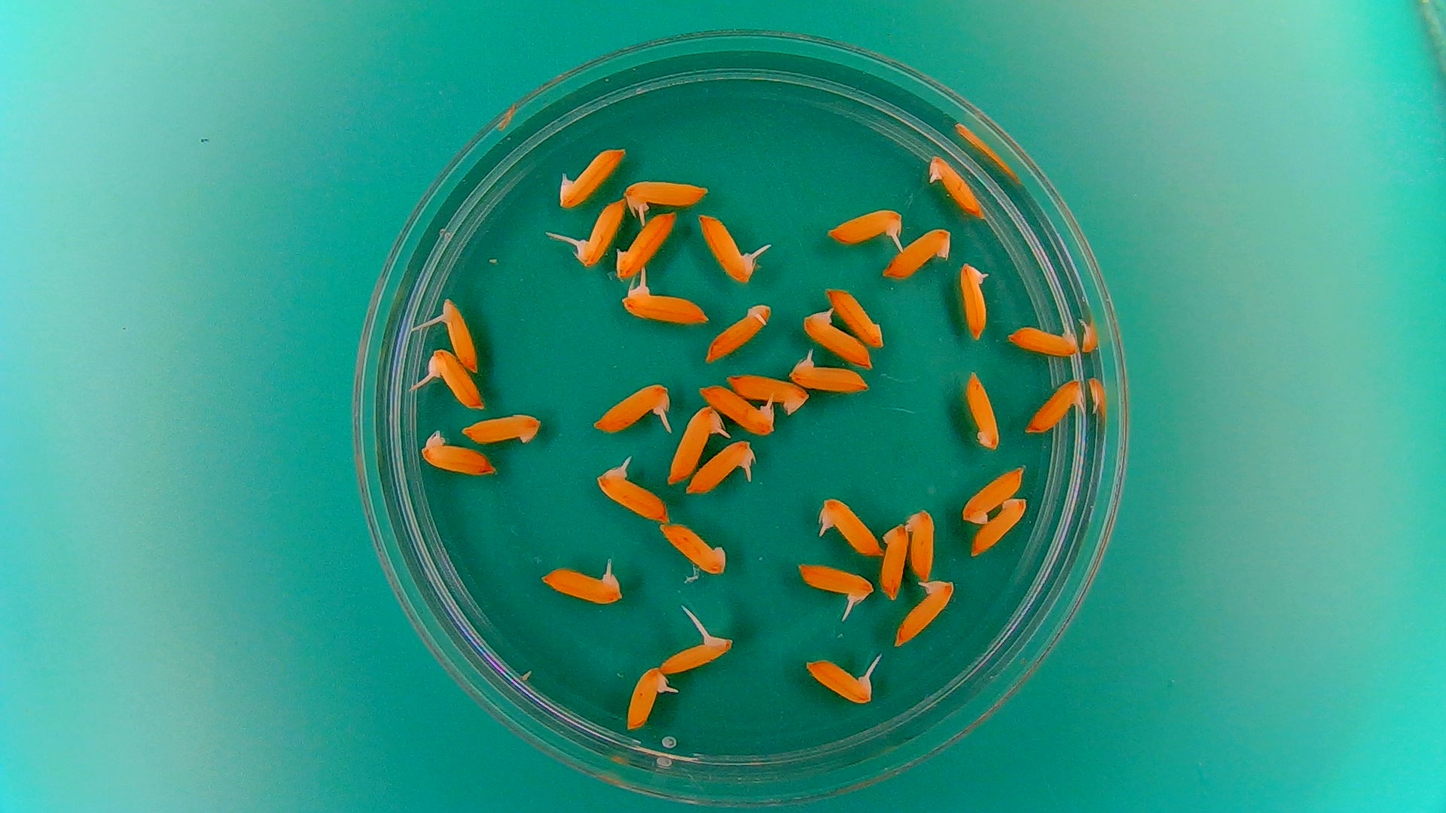no: (657, 518, 731, 577), (615, 210, 678, 279), (879, 224, 955, 281), (960, 463, 1028, 526), (825, 287, 886, 350), (970, 495, 1030, 557), (725, 370, 811, 413), (964, 368, 1002, 452), (461, 410, 547, 446), (424, 440, 495, 478), (879, 522, 911, 601), (907, 504, 936, 584)
yes: (586, 379, 676, 437), (892, 576, 958, 649), (799, 307, 876, 369), (705, 298, 776, 364), (668, 404, 725, 486), (685, 440, 761, 500), (815, 493, 885, 558), (418, 346, 485, 413), (558, 145, 625, 210), (924, 152, 986, 219), (698, 215, 757, 285), (700, 385, 778, 437), (431, 294, 481, 373), (1023, 376, 1088, 434), (822, 204, 905, 249), (800, 658, 876, 706), (600, 470, 670, 522), (786, 352, 871, 394), (621, 284, 709, 324), (573, 199, 624, 267), (792, 561, 871, 604), (623, 668, 673, 732), (1005, 317, 1081, 358), (541, 566, 622, 604), (656, 633, 730, 673), (621, 180, 709, 212), (959, 260, 993, 341)
